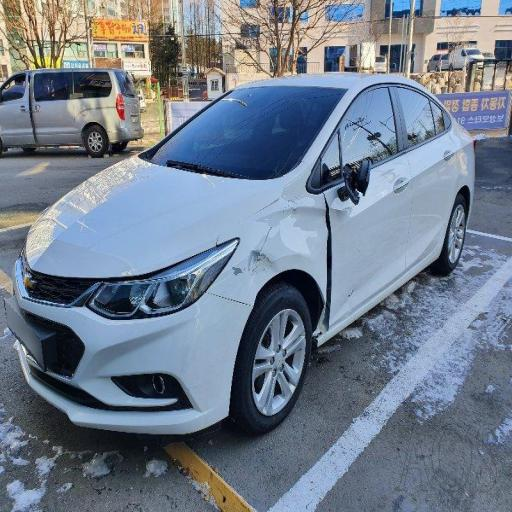broken: (303, 205, 351, 340)
dent: (248, 187, 324, 275)
scratch: (190, 265, 255, 325)
